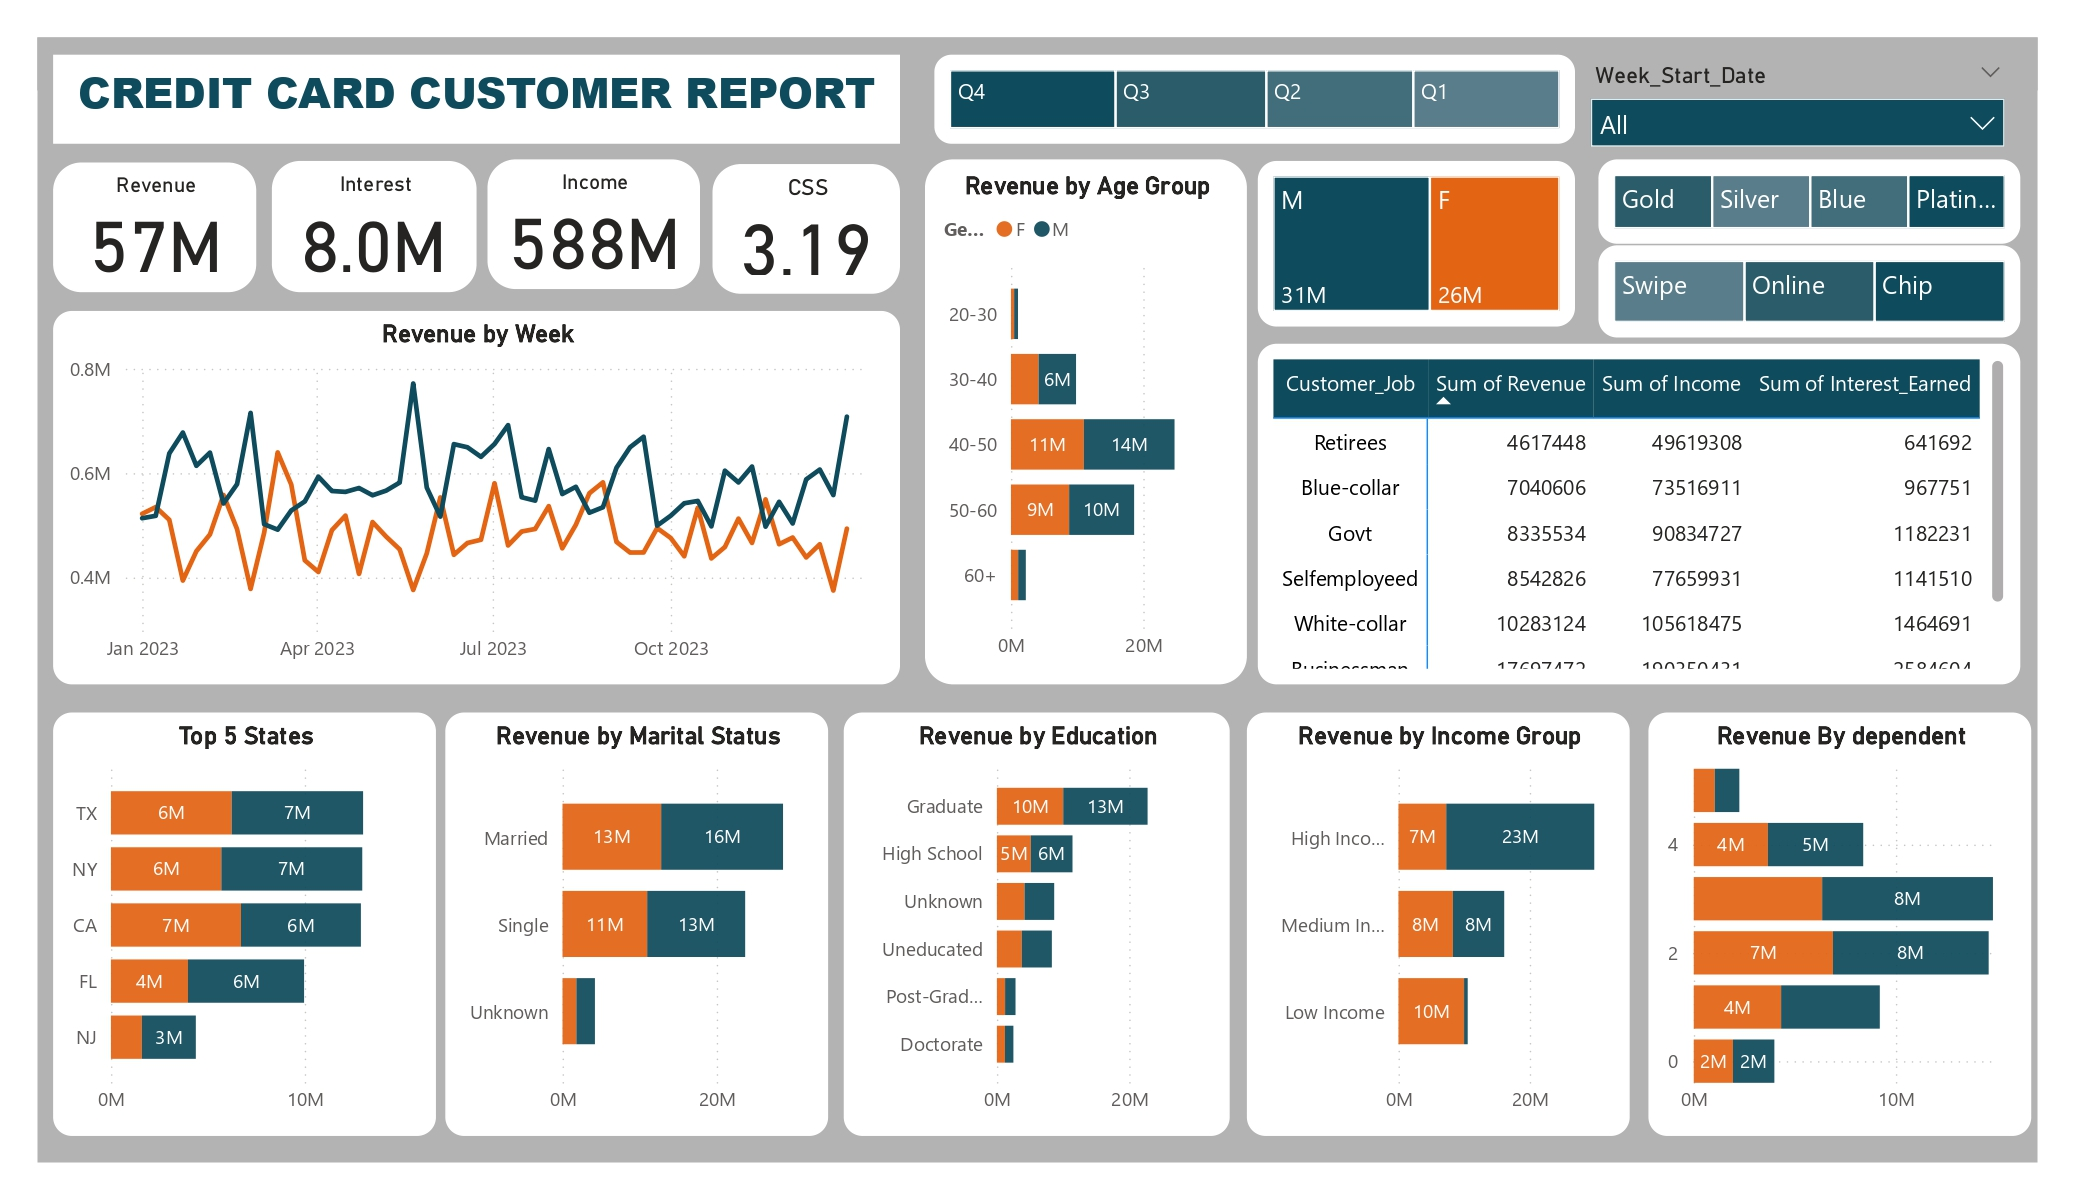

Layout of this report page (visuals, bound fields, positions):
{"tool":"powerbi","page":{"name":"Page 1","canvas":[1280,720],"ordinal":1},"visuals":[{"type":"barChart","title":"Revenue by Income Group","fields":{"Y":["Sum(ccdb credit_card.Revenue)"],"Category":["ccdb customer.IncomeGroup"],"Series":["ccdb customer.Gender"]},"box":[774.2,432.3,245,271],"z":0},{"type":"pivotTable","title":"Revenue by Education Level","fields":{"Values":["Sum(ccdb credit_card.Revenue)","Sum(ccdb customer.Income)","Sum(ccdb credit_card.Interest_Earned)"],"Rows":["ccdb customer.Customer_Job"]},"box":[781.2,196,487.9,218.2],"z":1000},{"type":"card","title":"Revenue","fields":{"Values":["Sum(ccdb credit_card.Revenue)"]},"box":[10.1,79.7,130,83],"z":2000},{"type":"card","title":"Income","fields":{"Values":["Sum(ccdb customer.Income)"]},"box":[287.7,77.8,136.2,83.4],"z":3000},{"type":"card","title":"Interest","fields":{"Values":["Sum(ccdb credit_card.Interest_Earned)"]},"box":[150.1,79.2,130.7,83.4],"z":4000},{"type":"card","title":"CSS","fields":{"Values":["Avg(ccdb customer.Cust_Satisfaction_Score)"]},"box":[432.3,80.6,119.5,83.4],"z":5000},{"type":"slicer","title":"QTR Revenue and Total Trans  Count","fields":{"Values":["ccdb credit_card.Week_Start_Date"]},"box":[984.1,11.1,284.9,68.1],"z":6000},{"type":"treemap","fields":{"Group":["ccdb credit_card.Qtr"],"Values":["Avg(ccdb credit_card.Client_Num)"]},"box":[574.1,11.1,410,57],"z":7000},{"type":"treemap","fields":{"Values":["Avg(ccdb credit_card.Client_Num)"],"Group":["ccdb credit_card.Card_Category"]},"box":[999.4,77.8,269.7,54.2],"z":9000},{"type":"textbox","box":[9.7,11.1,542.1,57],"z":11000},{"type":"lineChart","title":"Revenue by Week","fields":{"Y":["Sum(ccdb credit_card.Revenue)"],"Series":["ccdb customer.Gender"],"Category":["ccdb credit_card.Week_Start_Date.Variation.Date Hierarchy.Year","ccdb credit_card.Week_Start_Date.Variation.Date Hierarchy.Month","ccdb credit_card.Week_Start_Date.Variation.Date Hierarchy.Day"]},"box":[9.7,175.1,542.1,239.1],"z":12000},{"type":"treemap","title":"Revenue by Gender","fields":{"Group":["ccdb customer.Gender"],"Values":["Sum(ccdb credit_card.Revenue)"]},"box":[781.2,79.2,202.9,105.6],"z":13000},{"type":"barChart","title":"Revenue by Age Group","fields":{"Y":["Sum(ccdb credit_card.Revenue)"],"Category":["ccdb customer.AgeGroup"],"Series":["ccdb customer.Gender"]},"box":[568.5,77.8,205.7,336.4],"z":13002},{"type":"barChart","title":"Top 5 States","fields":{"Y":["Sum(ccdb credit_card.Revenue)"],"Category":["ccdb customer.state_cd"],"Series":["ccdb customer.Gender"]},"box":[9.7,432.3,245,271],"z":13003},{"type":"barChart","title":"Revenue by Education ","fields":{"Y":["Sum(ccdb credit_card.Revenue)"],"Category":["ccdb customer.Education_Level"],"Series":["ccdb customer.Gender"]},"box":[515.7,432.3,247.4,271],"z":13004},{"type":"barChart","title":"Revenue by Marital Status","fields":{"Y":["Sum(ccdb credit_card.Revenue)"],"Category":["ccdb customer.Marital_Status"],"Series":["ccdb customer.Gender"]},"box":[261.3,432.3,245,271],"z":13005},{"type":"barChart","title":"Revenue By dependent","fields":{"Y":["Sum(ccdb credit_card.Revenue)"],"Category":["ccdb customer.Dependent_Count","ccdb customer.Customer_Job"],"Series":["ccdb customer.Gender"]},"box":[1031.4,432.3,245,271],"z":13006},{"type":"treemap","fields":{"Values":["Avg(ccdb credit_card.Client_Num)"],"Group":["ccdb credit_card.Use Chip"]},"box":[999.4,133.4,269.7,58.4],"z":13007}]}

Visuals, with their boxes in screenshot pixels (x1, y1, x2, y2):
"Revenue by Income Group" barChart: rect(1247, 713, 1630, 1136)
"Revenue by Education Level" pivotTable: rect(1258, 344, 2020, 685)
"Revenue" card: rect(53, 162, 256, 292)
"Income" card: rect(487, 159, 700, 289)
"Interest" card: rect(272, 161, 476, 292)
"CSS" card: rect(713, 163, 900, 294)
"QTR Revenue and Total Trans  Count" slicer: rect(1575, 55, 2020, 161)
treemap - ccdb credit_card.Qtr x Avg(ccdb credit_card.Client_Num): rect(935, 55, 1575, 144)
treemap - Avg(ccdb credit_card.Client_Num) x ccdb credit_card.Card_Category: rect(1599, 159, 2020, 244)
textbox: rect(53, 55, 900, 144)
"Revenue by Week" lineChart: rect(53, 311, 900, 685)
"Revenue by Gender" treemap: rect(1258, 161, 1575, 326)
"Revenue by Age Group" barChart: rect(926, 159, 1247, 685)
"Top 5 States" barChart: rect(53, 713, 435, 1136)
"Revenue by Education " barChart: rect(843, 713, 1230, 1136)
"Revenue by Marital Status" barChart: rect(446, 713, 829, 1136)
"Revenue By dependent" barChart: rect(1649, 713, 2032, 1136)
treemap - Avg(ccdb credit_card.Client_Num) x ccdb credit_card.Use Chip: rect(1599, 246, 2020, 337)
